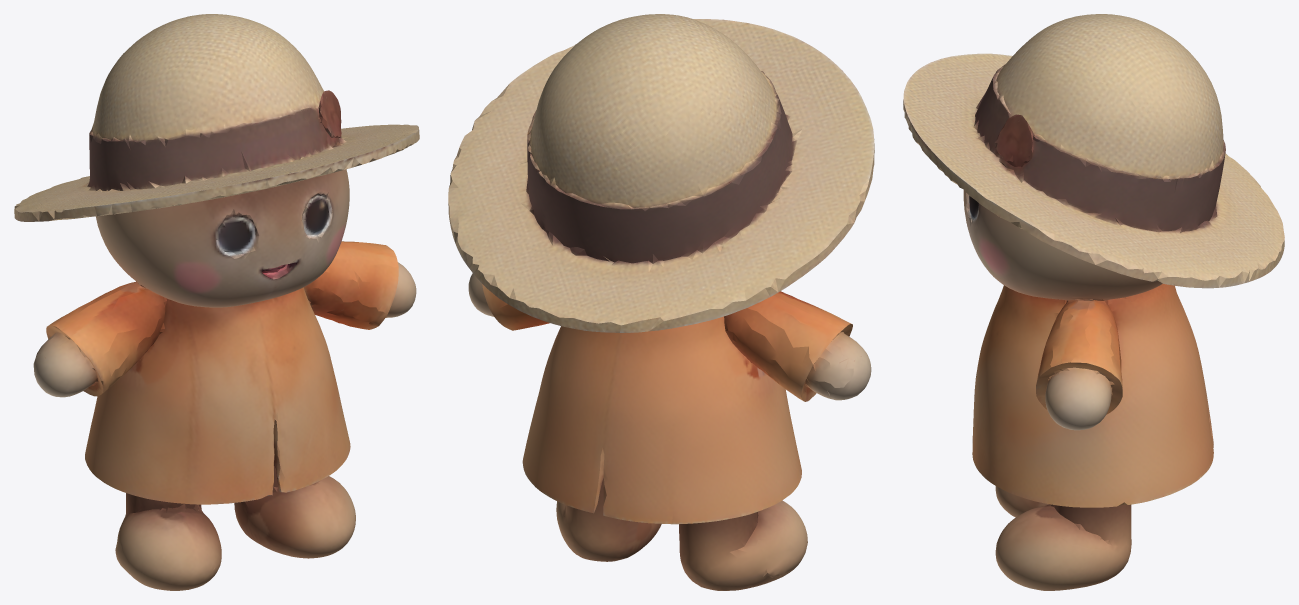
File: putalo_hyper3d.glb
The picture shows the model from 3 angles, left to right: view 1: azimuth 30°, elevation 25°; view 2: azimuth 150°, elevation 25°; view 3: azimuth 270°, elevation 25°; orthographic projection. The views are drawn at different scales.
Parts seen in each view (by area): view 1: Putalo_Hyper3D; view 2: Putalo_Hyper3D; view 3: Putalo_Hyper3D.
Part boxes in pixels (left/top/right/bottom): Putalo_Hyper3D: left=14, top=14, right=419, bottom=590; Putalo_Hyper3D: left=448, top=14, right=874, bottom=590; Putalo_Hyper3D: left=903, top=14, right=1284, bottom=590.
Size of the model in its own units: 1.43 by 1.9 by 1.26.
1 material, 1 textured.
